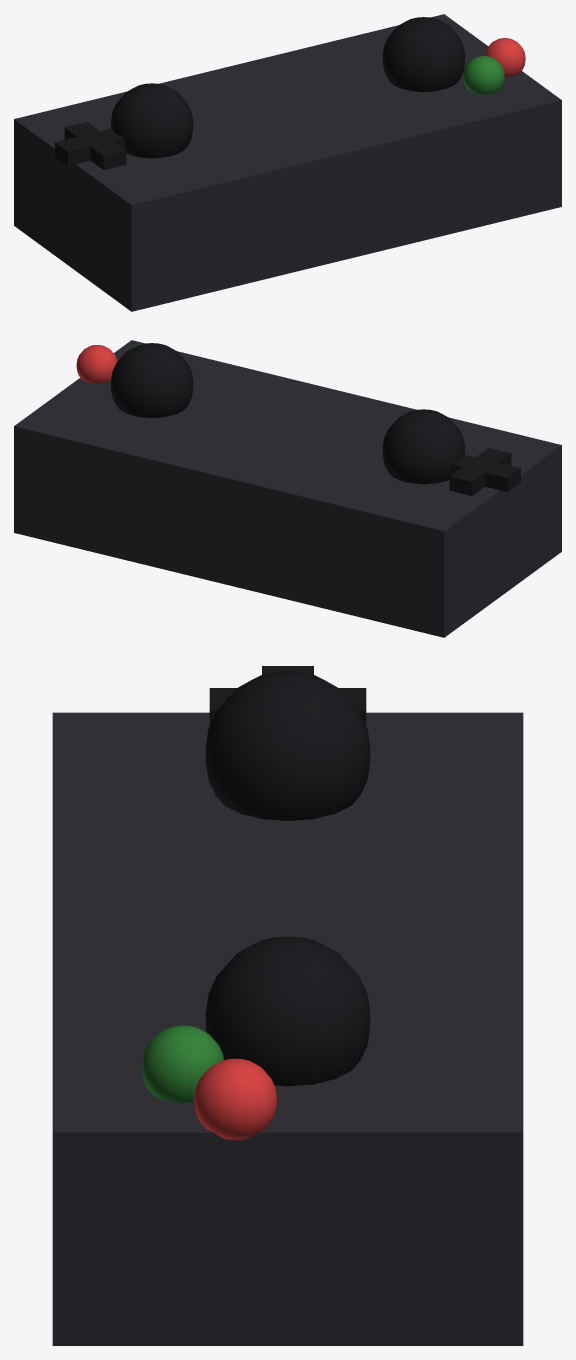
Rendered from item_console.fbx.
3 renders of one model, top to bottom at view 1: azimuth 30°, elevation 25°; view 2: azimuth 150°, elevation 25°; view 3: azimuth 270°, elevation 25°, orthographic. The views are drawn at different scales.
Parts seen in each view (by area): view 1: M__item_console; view 2: M__item_console; view 3: M__item_console.
Part boxes in pixels (<box>): M__item_console: <box>14,14,561,311</box>; M__item_console: <box>14,340,561,637</box>; M__item_console: <box>52,666,523,1345</box>.
Bounding box in the file's own units: 0.198 × 0.0685 × 0.09.
